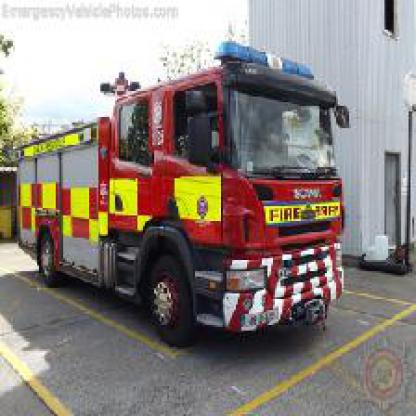emergency: (12, 35, 374, 351)
